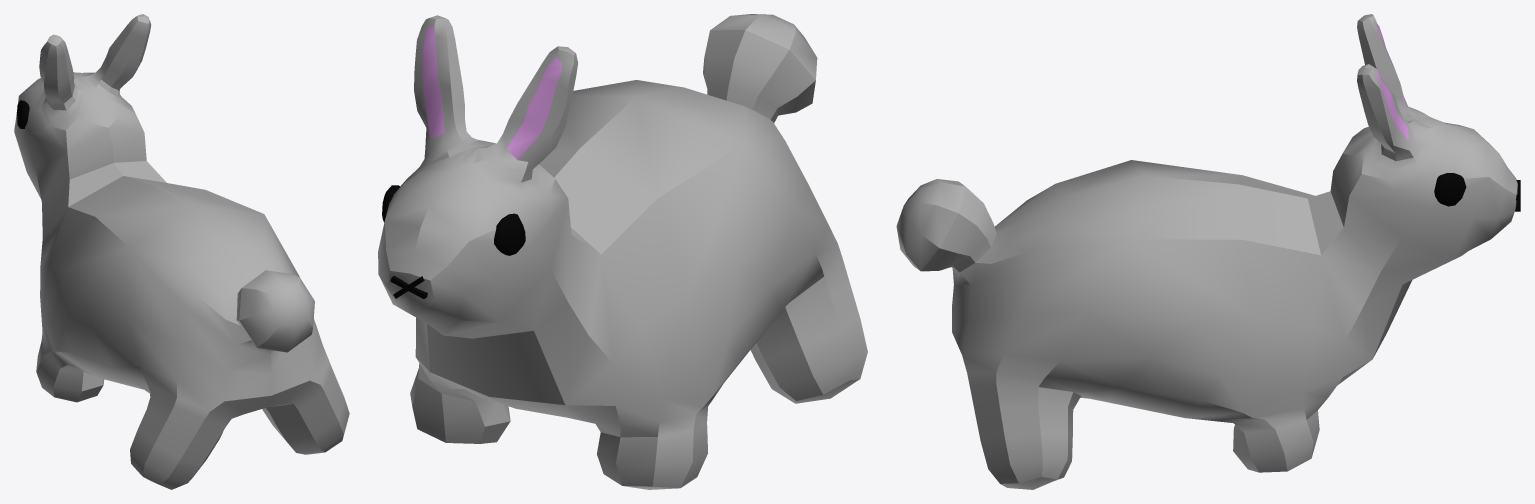
Rendered from RabbitPlushie.fbx.
3 renders of one model, left to right at view 1: azimuth 30°, elevation 25°; view 2: azimuth 150°, elevation 25°; view 3: azimuth 270°, elevation 25°, orthographic. The views are drawn at different scales.
Parts seen in each view (by area): view 1: Bunny; view 2: Bunny; view 3: Bunny.
Boxes of the visible parts, x1=… form: Bunny: x1=14, y1=14, x2=349, y2=489; Bunny: x1=378, y1=14, x2=867, y2=489; Bunny: x1=896, y1=14, x2=1520, y2=489.
Size of the model in its own units: 4.31 by 6.74 by 9.37.
